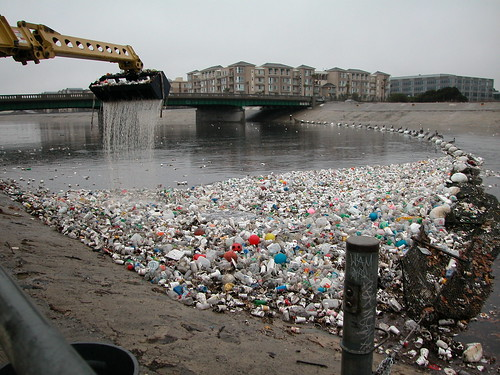bridge: (1, 84, 303, 145)
building: (194, 65, 315, 102), (395, 69, 500, 105), (320, 62, 390, 104)
graffiti: (340, 238, 378, 348)
sky: (53, 1, 495, 74)
trash: (40, 143, 498, 363)
